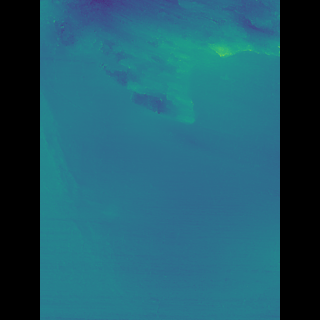Loch: (72, 0, 249, 130)
